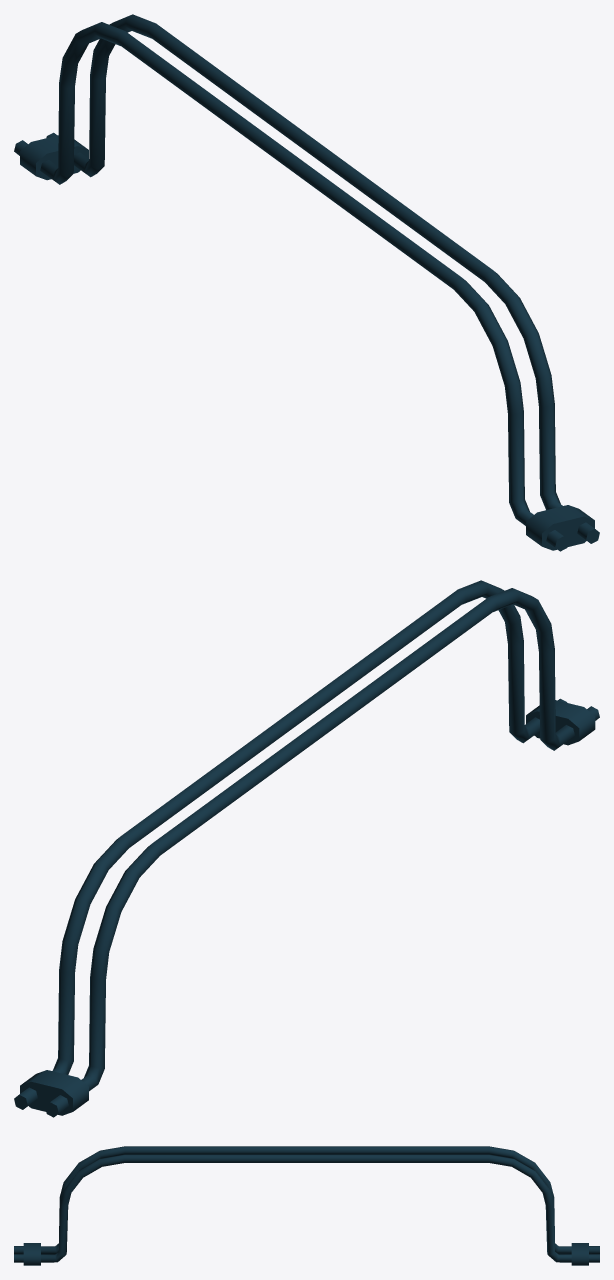
File: PipeHolder_Ring02Long_Small.fbx
3 views of the same model, one above another, from view 1: azimuth 30°, elevation 25°; view 2: azimuth 150°, elevation 25°; view 3: azimuth 270°, elevation 25° (orthographic). The views are drawn at different scales.
Visible parts, largest first — view 1: PipeHolder_Ring02Long_Small.001; view 2: PipeHolder_Ring02Long_Small.001; view 3: PipeHolder_Ring02Long_Small.001.
Boxes of the visible parts, left/top/right/bottom form: PipeHolder_Ring02Long_Small.001: left=14, top=14, right=599, bottom=551; PipeHolder_Ring02Long_Small.001: left=14, top=580, right=599, bottom=1117; PipeHolder_Ring02Long_Small.001: left=14, top=1146, right=599, bottom=1265.
Size of the model in its own units: 0.0291 by 0.1074 by 0.5148.
